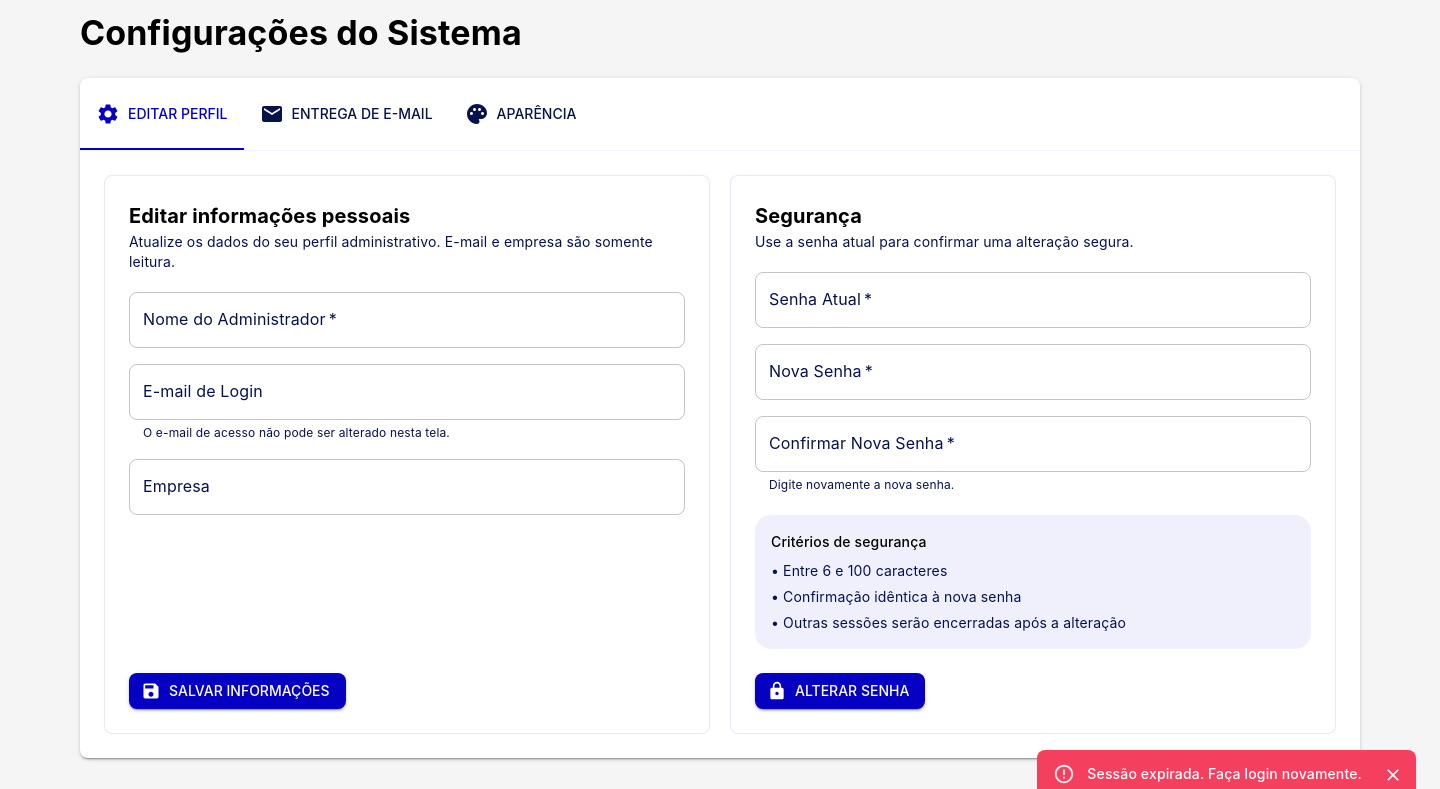
Test case: Settings — entrega multi-provedor › oferece Mailtrap Sandbox e informa que destinatários reais não recebem mensagens
This screenshot has width=1440, height=789.
Click the tab "Entrega de E-mail" at {"x": 346, "y": 114}, box top-left (244, 78), bottom-right (449, 150)
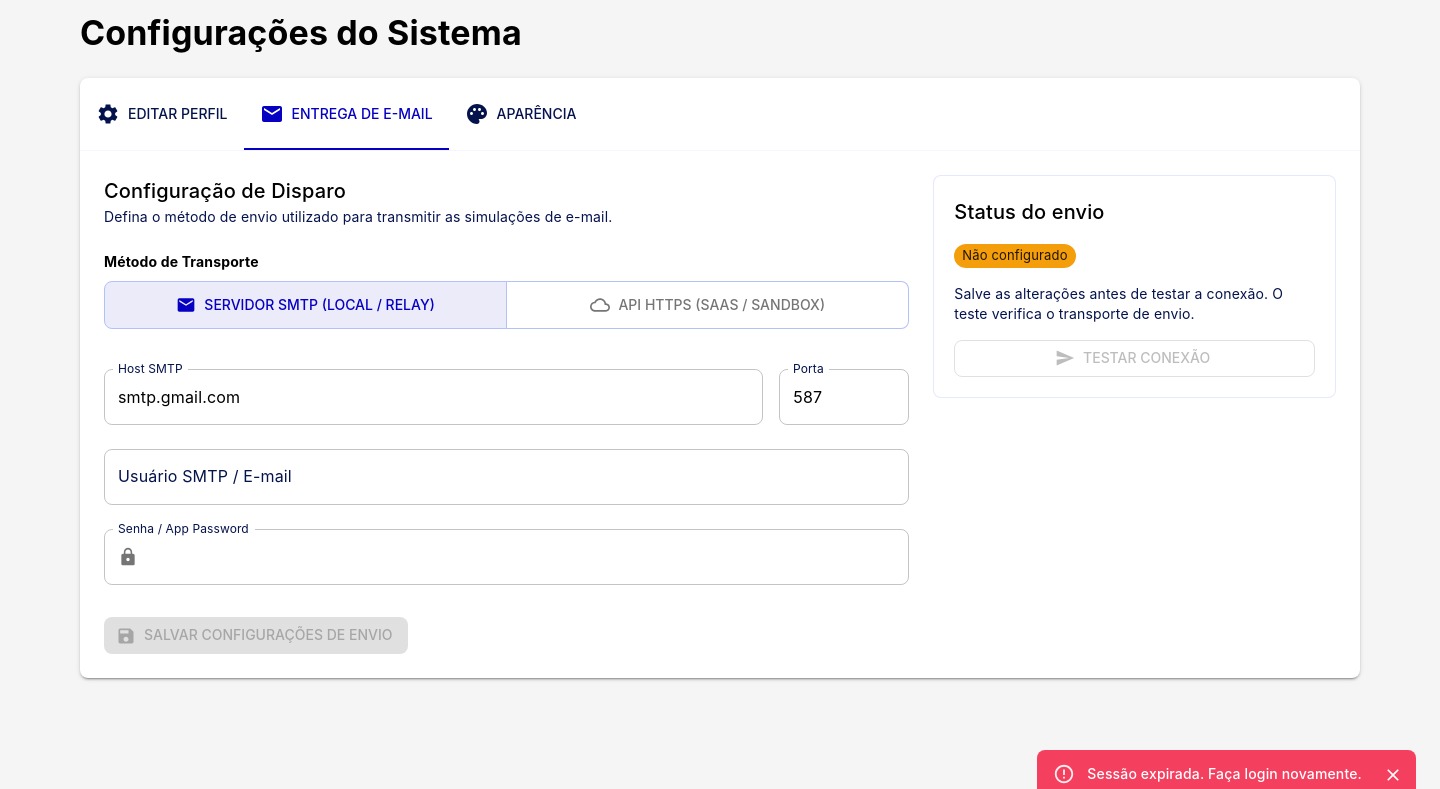
Click the button "API HTTPS (SaaS / Sandbox)" at {"x": 708, "y": 305}, box top-left (506, 281), bottom-right (909, 330)
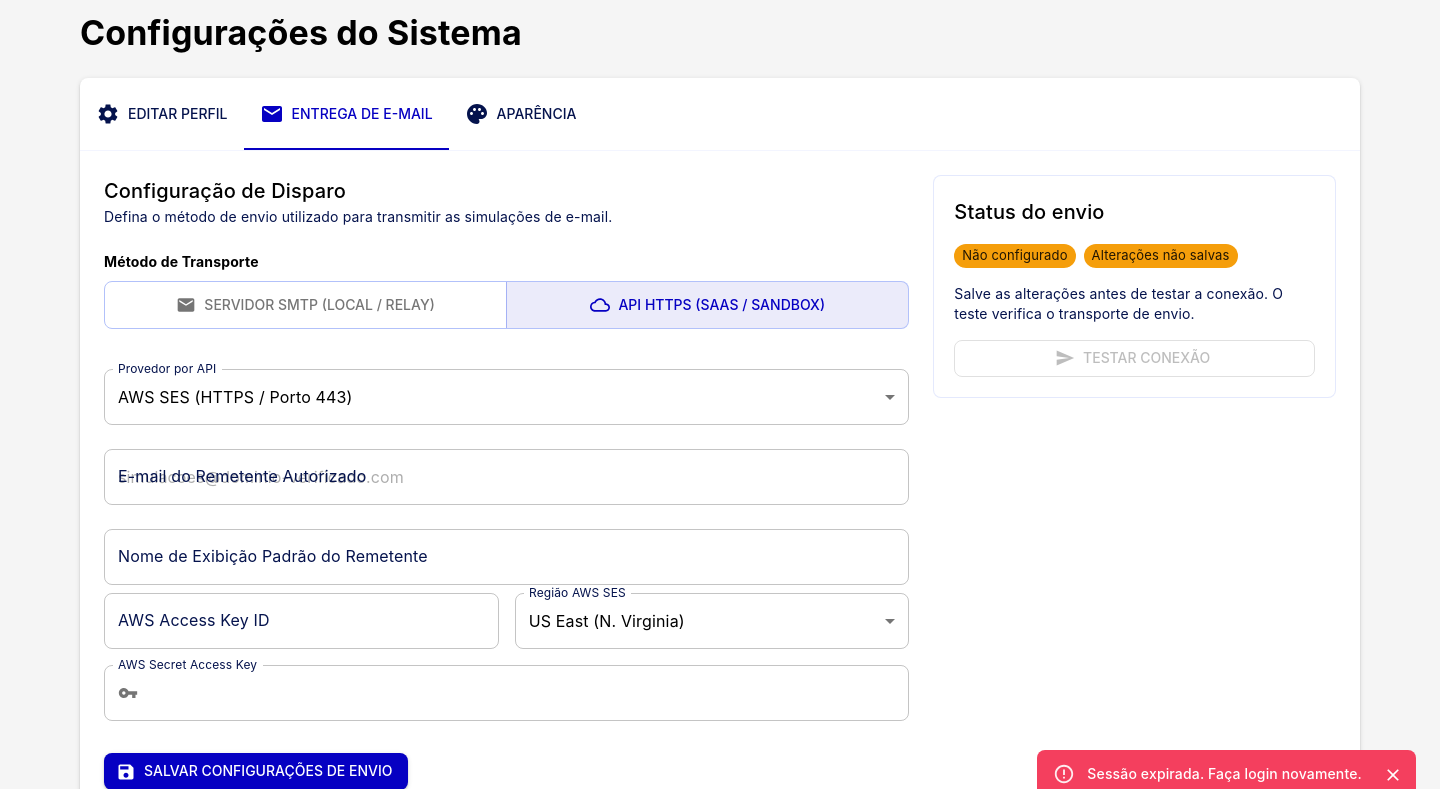
Press the mouse on the dropdown named "provedor por api" at {"x": 235, "y": 397}, box top-left (118, 387), bottom-right (353, 407)
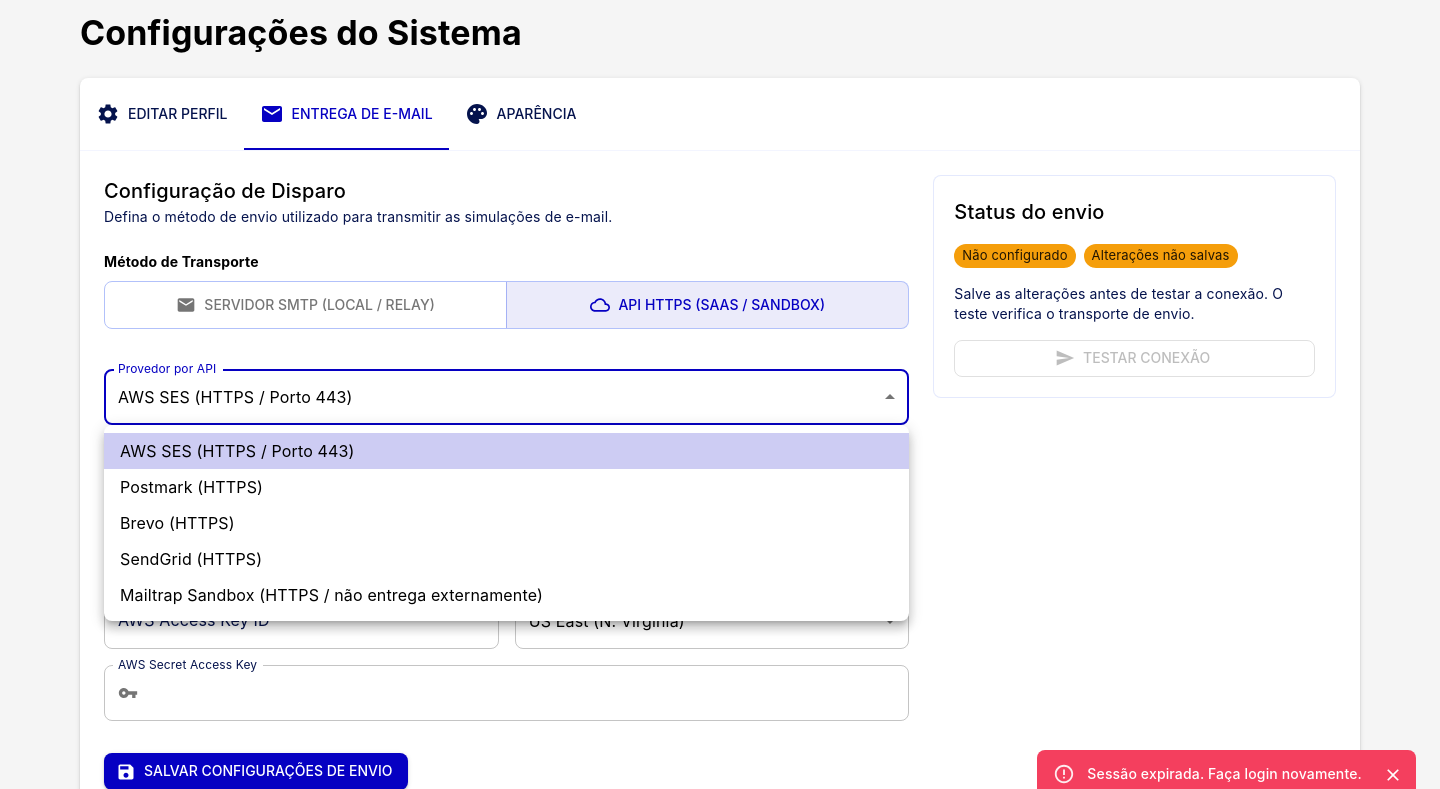
Click the option "Mailtrap Sandbox (HTTPS / não entrega externamente)" at {"x": 331, "y": 595}, box top-left (120, 585), bottom-right (543, 605)
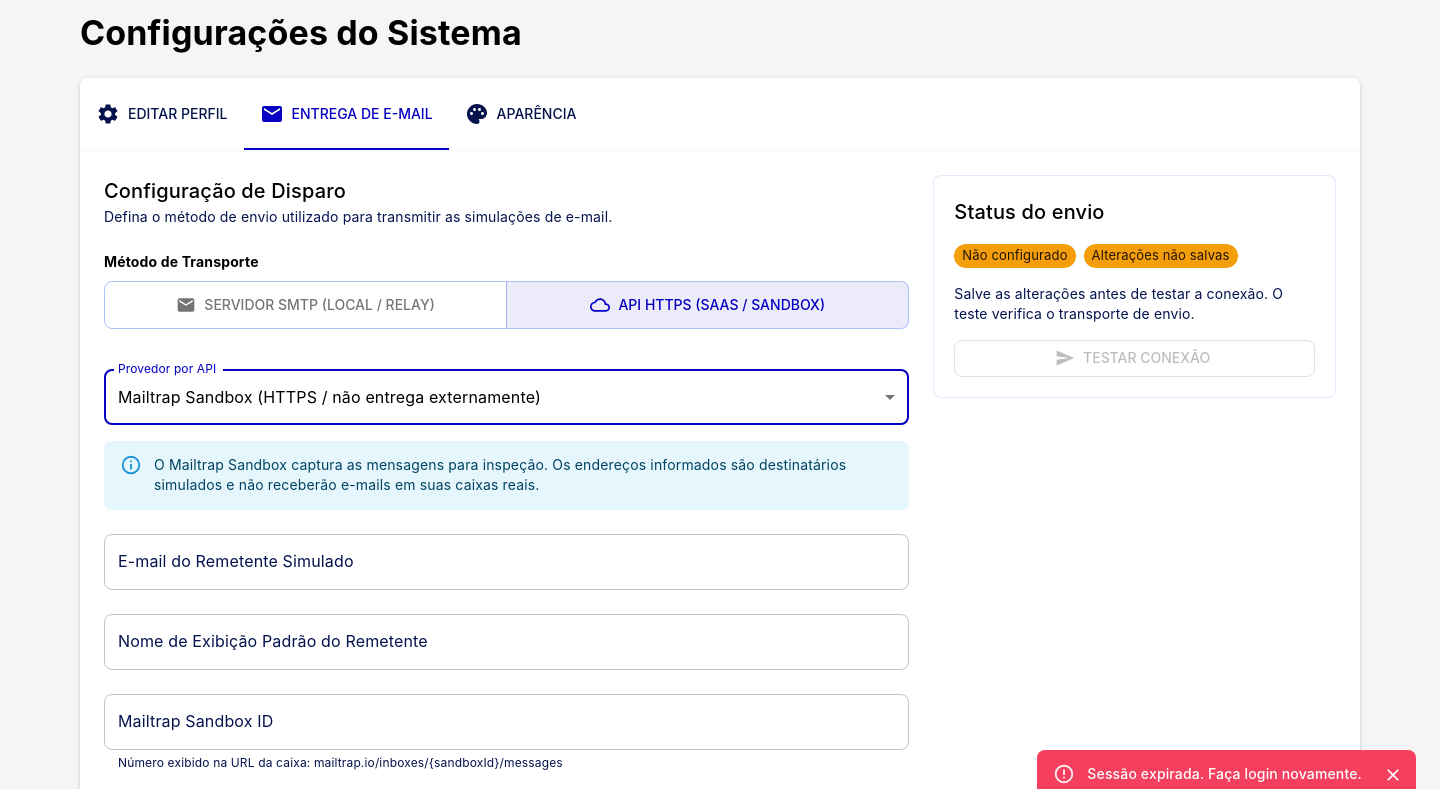
Expected: the field labelled "Mailtrap Sandbox ID" is shown, top-left (104, 694), bottom-right (909, 750)
Expected: the text "não receberão e-mails em suas caixas reais" is shown, top-left (154, 456), bottom-right (846, 494)
